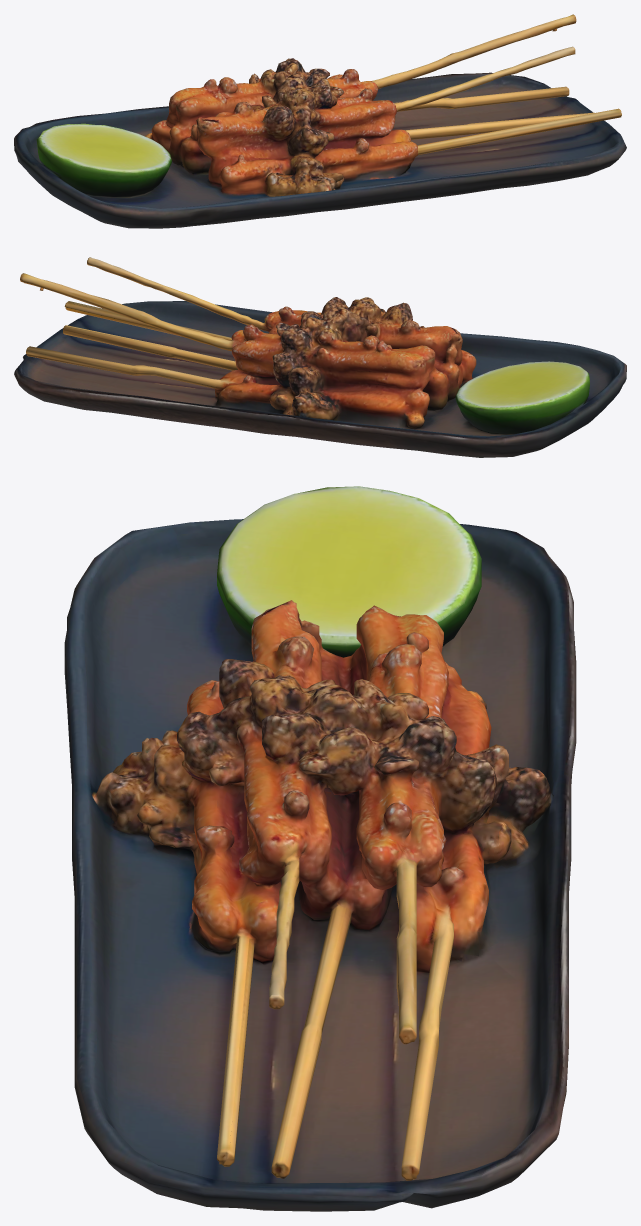
Rendered from chicken-satay.glb.
3 views of the same model, one above another, from view 1: azimuth 30°, elevation 25°; view 2: azimuth 150°, elevation 25°; view 3: azimuth 270°, elevation 25° (orthographic). The views are drawn at different scales.
Parts seen in each view (by area): view 1: tripo_node_9c38dfc2; view 2: tripo_node_9c38dfc2; view 3: tripo_node_9c38dfc2.
Boxes of the visible parts, <box> form: tripo_node_9c38dfc2: <box>14,14,626,228</box>; tripo_node_9c38dfc2: <box>14,257,626,457</box>; tripo_node_9c38dfc2: <box>64,486,576,1211</box>.
Bounding box in the file's own units: 0.3 × 0.0652 × 0.1203.
1 material, 1 textured.
